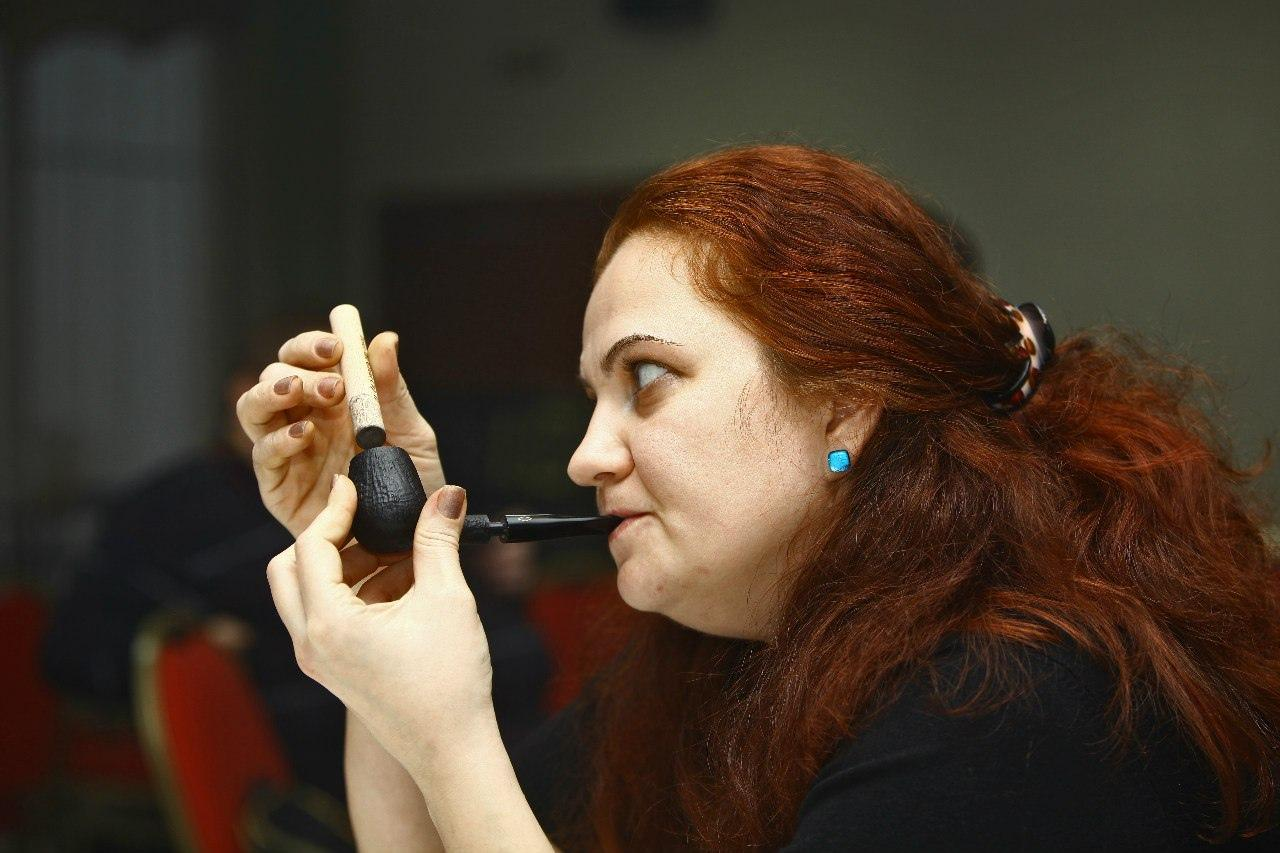trubka: (348, 443, 626, 555)
